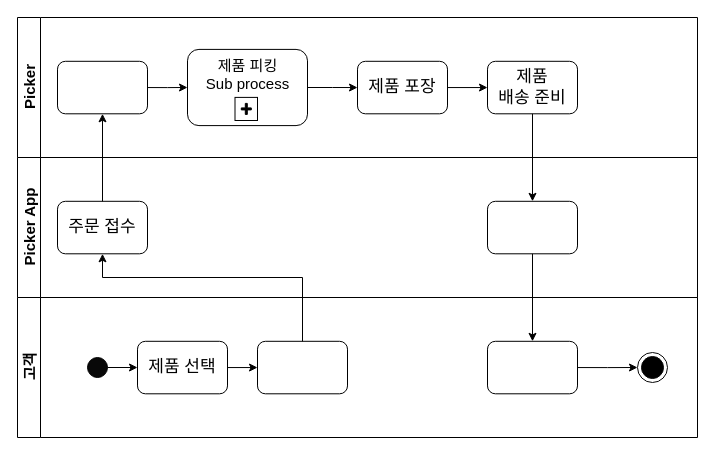
The diagram is 715 pixels wide and 455 high, and some of its shapes have lost their labels. Here are the shapes that lost their labels. From the top down, the centre of each, then its label:
At pixel 102 87: "주문 할당".
At pixel 532 227: "배송 접수".
At pixel 302 367: "제품 구매".
At pixel 532 367: "배송 완료".
